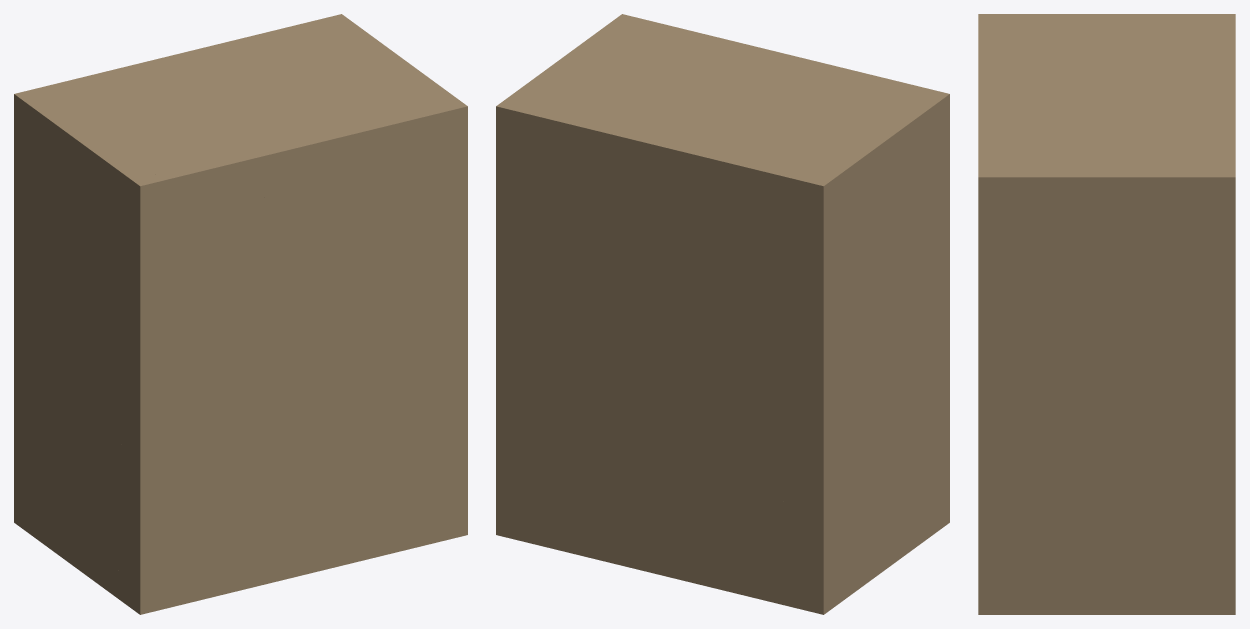
Rendered from DestructibleBuilding.fbx.
The picture shows the model from 3 angles, left to right: view 1: azimuth 30°, elevation 25°; view 2: azimuth 150°, elevation 25°; view 3: azimuth 270°, elevation 25°; orthographic projection. The views are drawn at different scales.
Parts seen in each view (by area): view 1: Building_BASE, Building (Broken)_cell.143, Building (Broken)_cell.324, Building (Broken)_cell.416, Building (Broken)_cell.265, Building (Broken)_cell.426, Building (Broken)_cell.365, Building (Broken)_cell.227, Building (Broken)_cell.046, Building (Broken)_cell.188, Building (Broken)_cell.208, Building (Broken)_cell.199 (+82 smaller); view 2: Building_BASE, Building (Broken)_cell.207, Building (Broken)_cell.454, Building (Broken)_cell.011, Building (Broken)_cell.419, Building (Broken)_cell.002, Building (Broken)_cell.357, Building (Broken)_cell.211, Building (Broken)_cell.336, Building (Broken)_cell.022, Building (Broken)_cell.379, Building (Broken)_cell.057 (+84 smaller); view 3: Building_BASE, Building (Broken)_cell.392, Building (Broken)_cell.272, Building (Broken)_cell.107, Building (Broken)_cell.081, Building (Broken)_cell.082, Building (Broken)_cell.202, Building (Broken)_cell.170, Building (Broken)_cell.099, Building (Broken)_cell.219, Building (Broken)_cell.471, Building (Broken)_cell.169 (+59 smaller).
Boxes of the visible parts, <box> form: Building_BASE: <box>14,14,467,614</box>; Building (Broken)_cell.143: <box>124,232,208,326</box>; Building (Broken)_cell.324: <box>181,170,266,254</box>; Building (Broken)_cell.416: <box>338,105,431,161</box>; Building (Broken)_cell.265: <box>158,365,238,434</box>; Building (Broken)_cell.426: <box>280,122,357,186</box>; Building (Broken)_cell.365: <box>247,273,320,336</box>; Building (Broken)_cell.227: <box>357,172,411,254</box>; Building (Broken)_cell.046: <box>179,517,237,598</box>; Building (Broken)_cell.188: <box>249,349,329,417</box>; Building (Broken)_cell.208: <box>312,250,365,338</box>; Building (Broken)_cell.199: <box>243,186,310,247</box>; Building_BASE: <box>496,20,949,614</box>; Building (Broken)_cell.207: <box>550,122,625,195</box>; Building (Broken)_cell.454: <box>660,347,720,431</box>; Building (Broken)_cell.011: <box>511,211,575,293</box>; Building (Broken)_cell.419: <box>719,281,776,357</box>; Building (Broken)_cell.002: <box>770,171,837,240</box>; Building (Broken)_cell.357: <box>752,194,812,290</box>; Building (Broken)_cell.211: <box>748,485,813,567</box>; Building (Broken)_cell.336: <box>653,165,727,228</box>; Building (Broken)_cell.022: <box>665,287,723,352</box>; Building (Broken)_cell.379: <box>565,449,639,532</box>; Building (Broken)_cell.057: <box>607,357,675,441</box>; Building_BASE: <box>978,14,1235,614</box>; Building (Broken)_cell.392: <box>978,170,1047,250</box>; Building (Broken)_cell.272: <box>1156,308,1235,377</box>; Building (Broken)_cell.107: <box>1081,348,1168,422</box>; Building (Broken)_cell.081: <box>1079,419,1155,491</box>; Building (Broken)_cell.082: <box>1083,466,1176,521</box>; Building (Broken)_cell.202: <box>1158,216,1235,278</box>; Building (Broken)_cell.170: <box>1009,357,1080,432</box>; Building (Broken)_cell.099: <box>1138,369,1205,445</box>; Building (Broken)_cell.219: <box>1168,407,1235,474</box>; Building (Broken)_cell.471: <box>978,335,1041,407</box>; Building (Broken)_cell.169: <box>1025,522,1106,600</box>.
Size of the model in its own units: 1200 by 1500 by 800.
